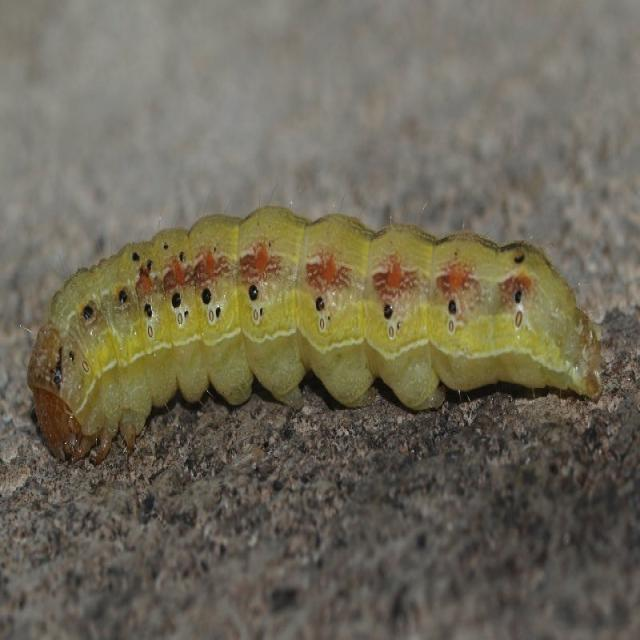worm: (24, 204, 604, 468)
